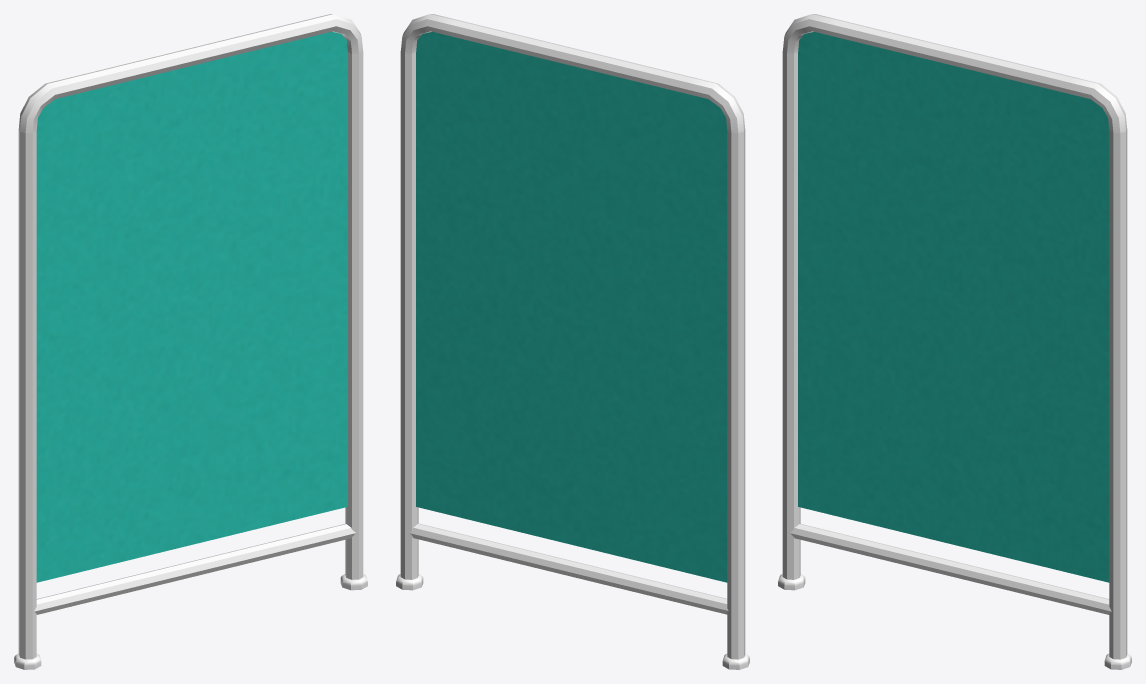
Rendered from divider.fbx.
3 renders of one model, left to right at view 1: azimuth 30°, elevation 25°; view 2: azimuth 150°, elevation 25°; view 3: azimuth 330°, elevation 25°, orthographic.
Parts seen in each view (by area): view 1: divider; view 2: divider; view 3: divider.
Part boxes in pixels (bbox=[...]): divider: bbox=[14, 14, 367, 669]; divider: bbox=[396, 14, 749, 669]; divider: bbox=[778, 14, 1131, 669].
Bounding box in the file's own units: 139 × 218 × 10.06.
Materials: 1 (1 with a texture image).
